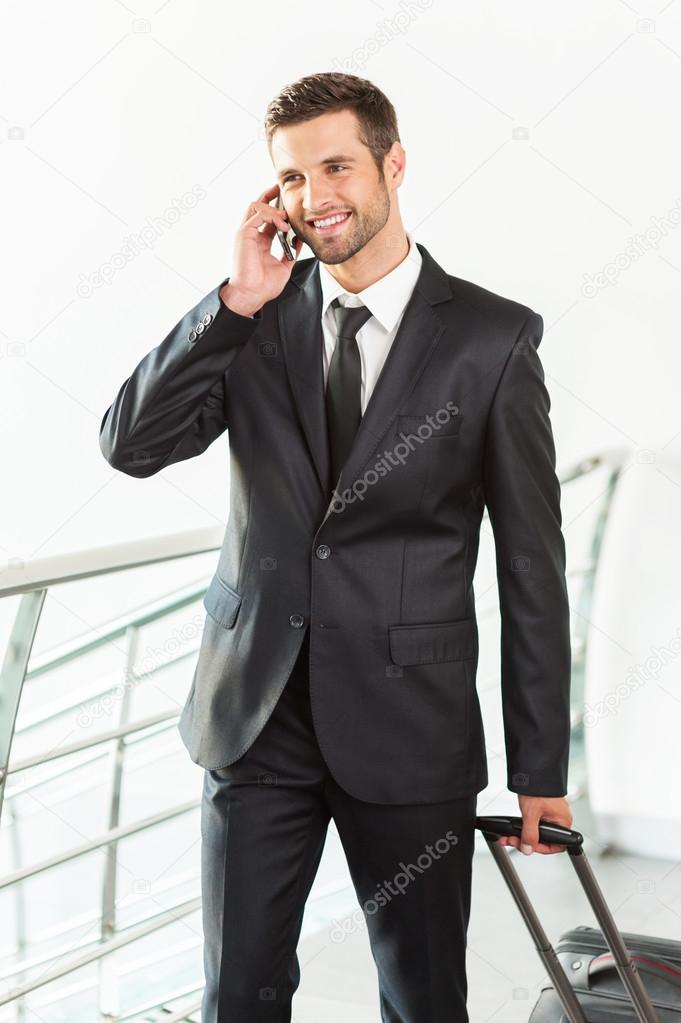phone: (239, 187, 314, 278)
talk: (234, 150, 378, 293)
